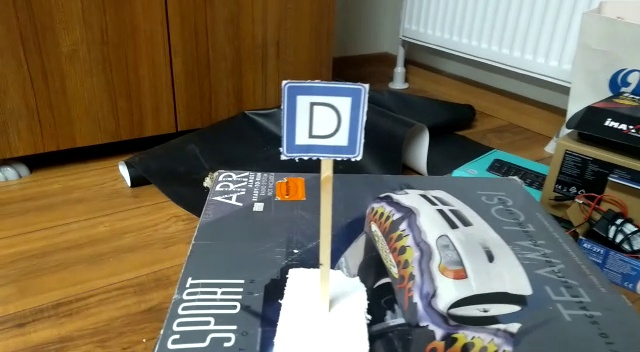durak: (273, 74, 371, 171)
